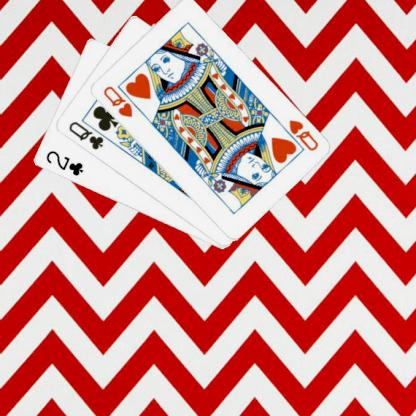2C: (43, 148, 85, 177)
QC: (65, 119, 105, 152)
QH: (275, 116, 320, 152), (100, 83, 134, 119)
